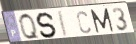3: (111, 7, 129, 32)
C: (76, 10, 92, 35)
I: (57, 10, 70, 38)
M: (89, 7, 115, 34)
Q: (18, 12, 42, 41)
S: (36, 11, 58, 39)
